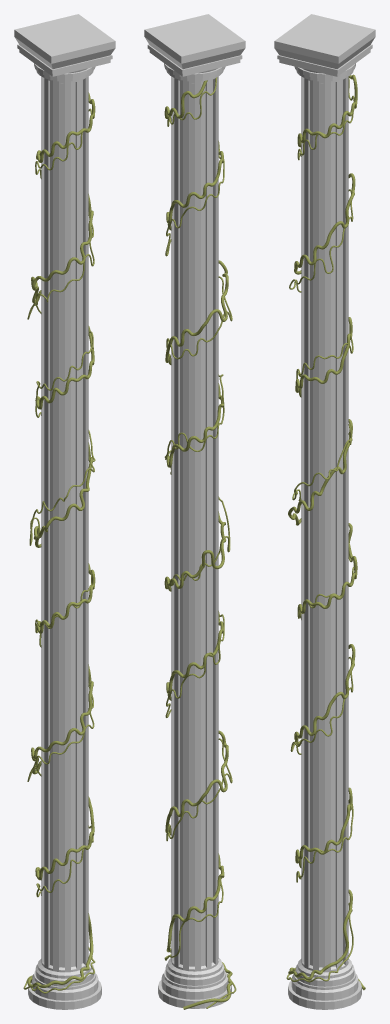
Rendered from piller.fbx.
The picture shows the model from 3 angles, left to right: view 1: azimuth 30°, elevation 25°; view 2: azimuth 210°, elevation 25°; view 3: azimuth 330°, elevation 25°; orthographic projection.
Parts seen in each view (by area): view 1: Circle, vine.001, vine; view 2: Circle, vine.001, vine; view 3: Circle, vine.001, vine.
Part boxes in pixels (x1=…): Circle: x1=14, y1=14, x2=115, y2=1009; vine.001: x1=27, y1=92, x2=95, y2=987; vine: x1=23, y1=108, x2=95, y2=993; Circle: x1=144, y1=14, x2=245, y2=1008; vine.001: x1=164, y1=80, x2=232, y2=1009; vine: x1=164, y1=77, x2=236, y2=1008; Circle: x1=274, y1=14, x2=375, y2=1009; vine.001: x1=288, y1=74, x2=365, y2=990; vine: x1=286, y1=77, x2=354, y2=982.
Size of the model in its own units: 3.19 by 44.58 by 3.33.
